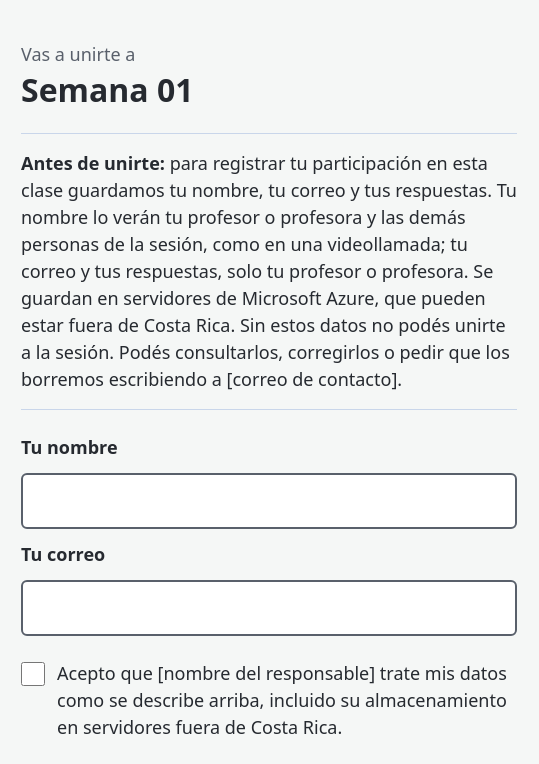
Test case: the server refusing with EmailInvalid is explained in plain words
Type "Ana Mora" into the field labelled "Tu nombre" at (269, 501), box [21,473,517,529]
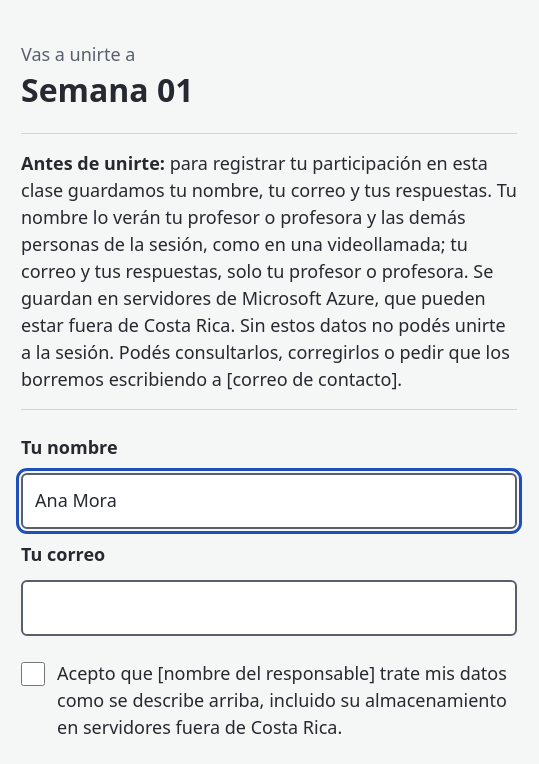
Type "ana@example.com" into the field labelled "Tu correo" at (269, 608), box [21,580,517,636]
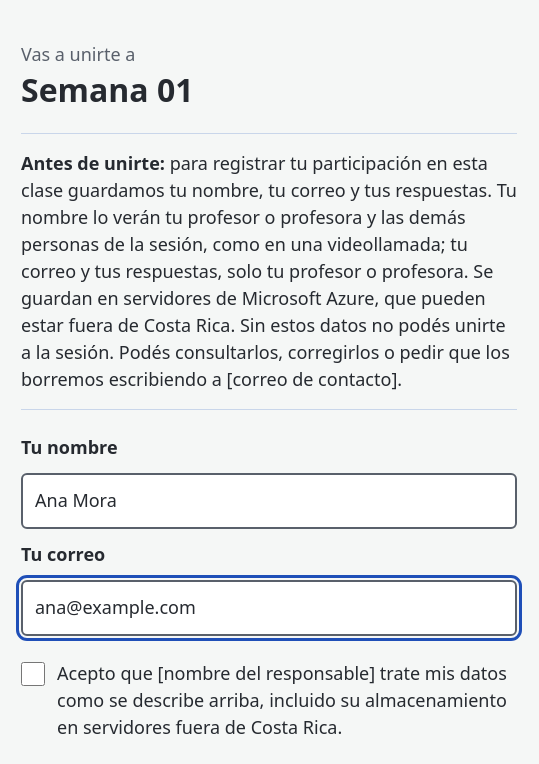
Click the checkbox at (33, 674), box [21,662,45,686]
(page scrolled)
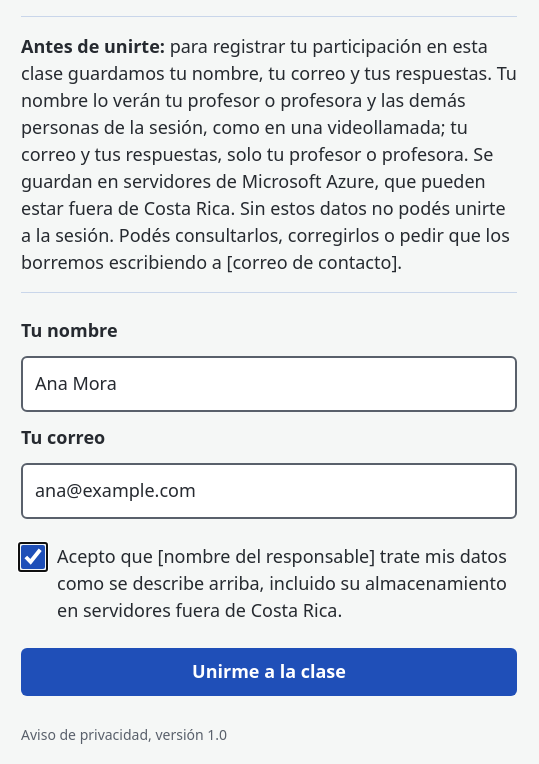
Click the button "Unirme a la clase" at (269, 672), box [21,648,517,696]
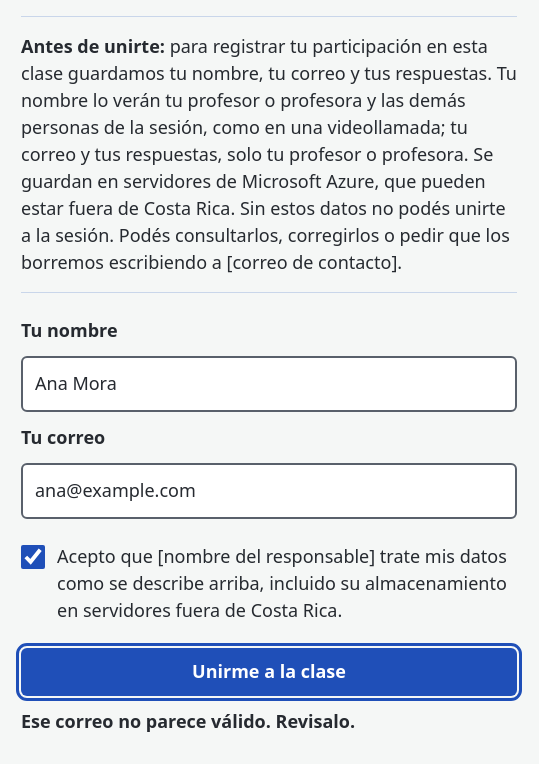
Expected: the text "Ese correo no parece válido. Revisalo." is shown, [21,709,355,733]
